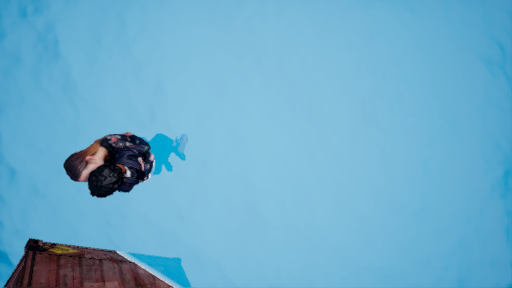person: (67, 122, 194, 196)
